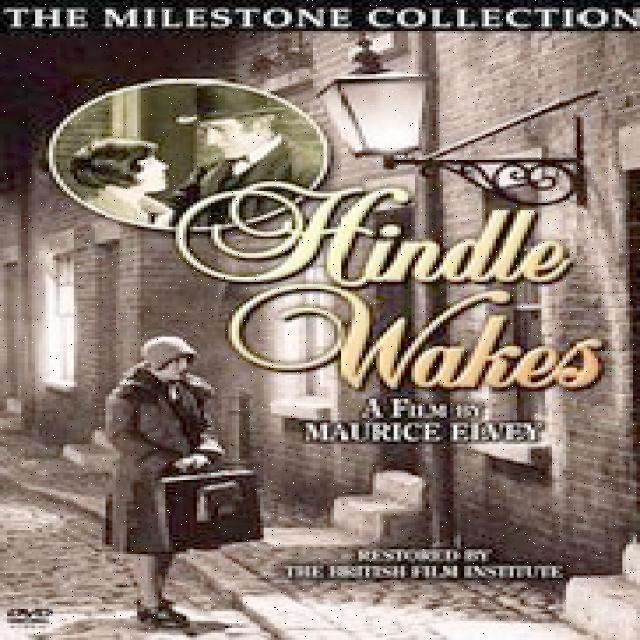movie-judul: (172, 175, 623, 401)
picture: (85, 344, 269, 620), (63, 88, 302, 214)
